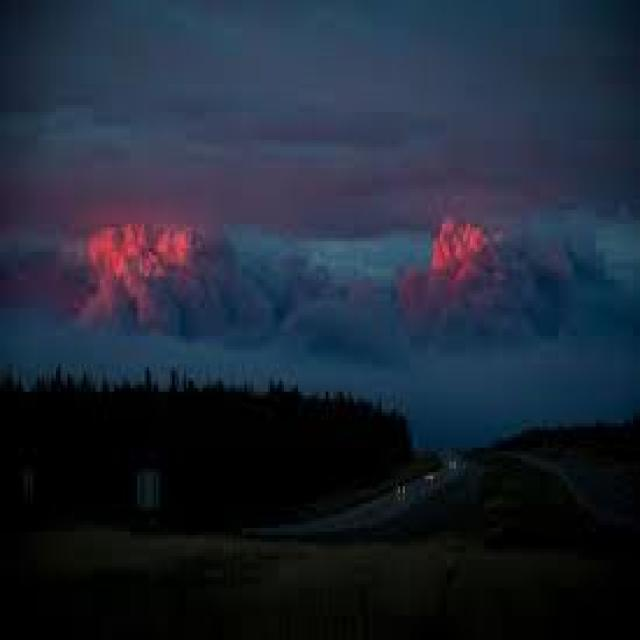Fire: (93, 214, 189, 298), (426, 210, 483, 276)
Smoke: (12, 225, 640, 351)
